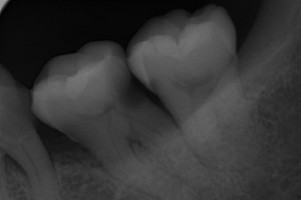Endo-Periodontal Lesion: (6, 153, 27, 177)
